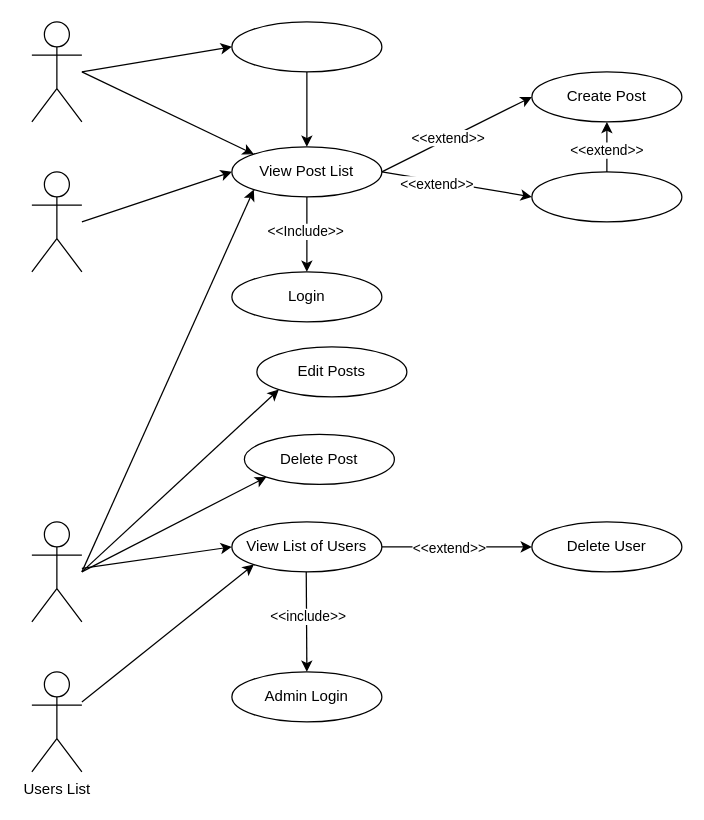
Image size: 704x820. Some labels were removed from this diagram. Here are the shapes that lost their labels. From the top down, the centre of each, then its label:
At point 306,46: "Create User".
At point 56,71: "User".
At point 606,196: "View Post".
At point 56,221: "Posts List".
At point 56,571: "SuperUser".
